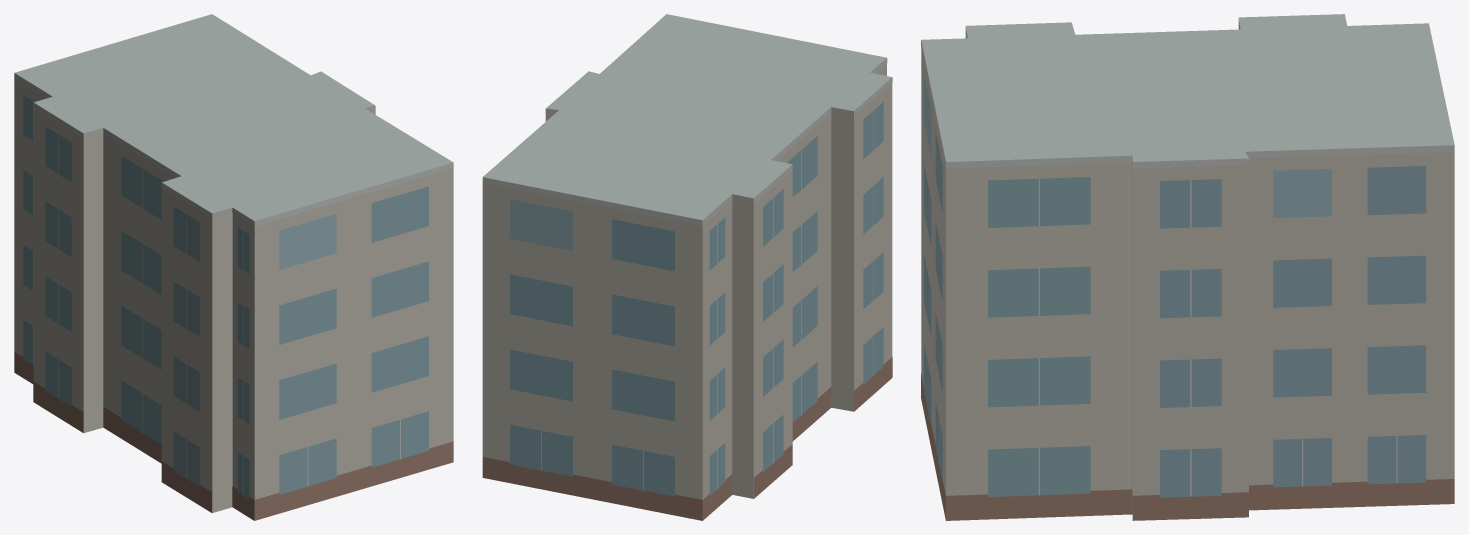
Rendered from survey-upis-32909616.glb.
3 renders of one model, left to right at view 1: azimuth 30°, elevation 25°; view 2: azimuth 150°, elevation 25°; view 3: azimuth 270°, elevation 25°, orthographic. The views are drawn at different scales.
Visible parts, largest first — view 1: survey-upis-32909616.tmp; view 2: survey-upis-32909616.tmp; view 3: survey-upis-32909616.tmp.
Part boxes in pixels (x1,y1,x2,y2): survey-upis-32909616.tmp: (14, 14, 453, 520); survey-upis-32909616.tmp: (482, 14, 892, 520); survey-upis-32909616.tmp: (921, 14, 1454, 520).
Bounding box in the file's own units: 11.61 × 13.1 × 17.67.
